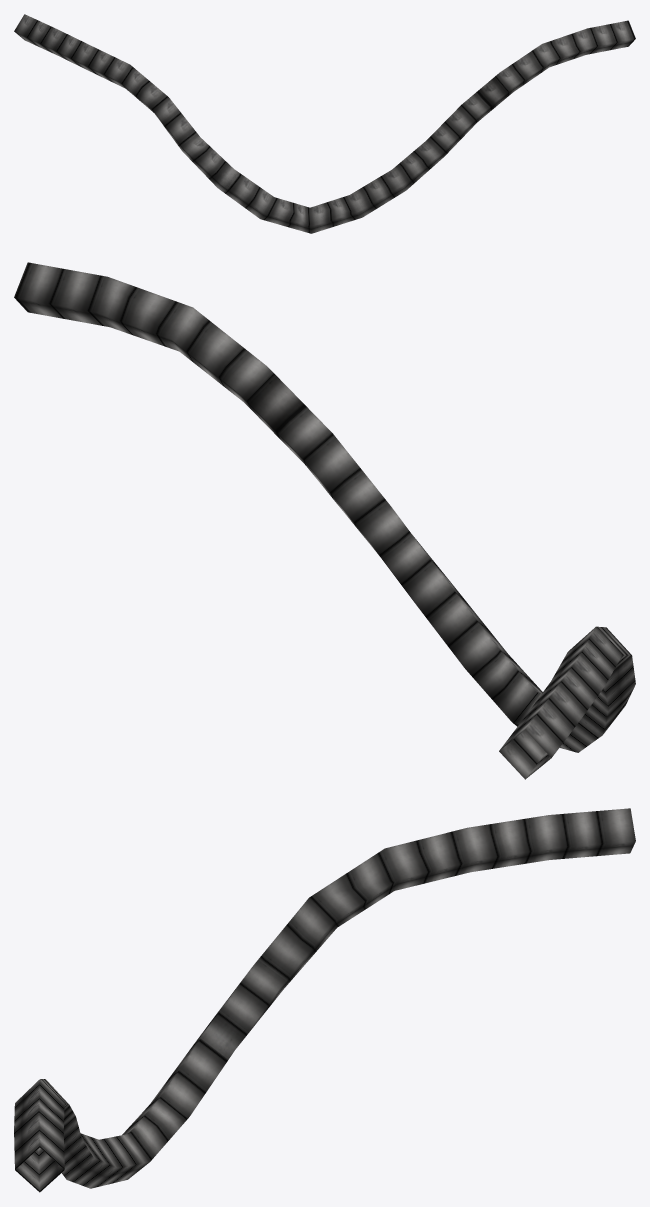
The model's file is Hose_H.fbx.
The picture shows the model from 3 angles, top to bottom: view 1: azimuth 30°, elevation 25°; view 2: azimuth 150°, elevation 25°; view 3: azimuth 270°, elevation 25°; orthographic projection. The views are drawn at different scales.
Visible parts, largest first — view 1: ___babelPipe2_0_0:___babelPipe2; view 2: ___babelPipe2_0_0:___babelPipe2; view 3: ___babelPipe2_0_0:___babelPipe2.
Boxes of the visible parts, left/top/right/bottom form: ___babelPipe2_0_0:___babelPipe2: left=14, top=14, right=635, bottom=233; ___babelPipe2_0_0:___babelPipe2: left=14, top=262, right=635, bottom=779; ___babelPipe2_0_0:___babelPipe2: left=14, top=808, right=635, bottom=1192.
Size of the model in its own units: 5.32 by 1.87 by 3.75.
